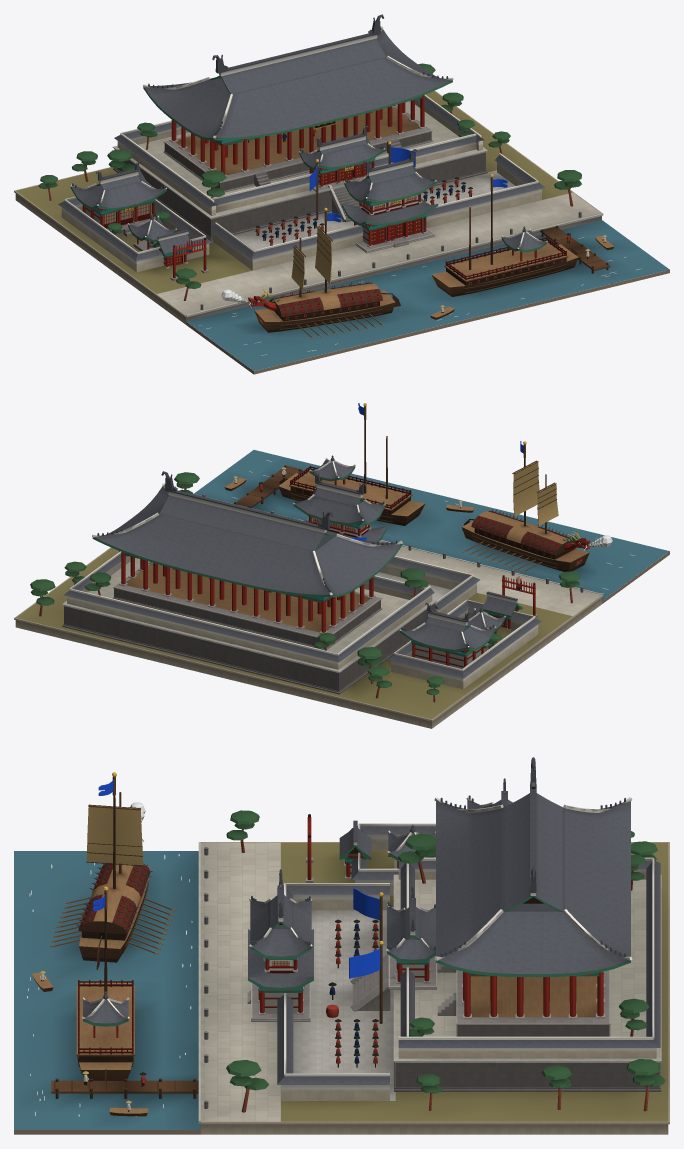
File: lm_komutanlik.glb
3 renders of one model, top to bottom at view 1: azimuth 30°, elevation 25°; view 2: azimuth 150°, elevation 25°; view 3: azimuth 270°, elevation 25°, orthographic. The views are drawn at different scales.
Parts seen in each view (by area): view 1: lm_komutanlik; view 2: lm_komutanlik; view 3: lm_komutanlik.
Boxes of the visible parts, x1,y1,x2,y2 form: lm_komutanlik: (14,14,669,374); lm_komutanlik: (14,403,669,728); lm_komutanlik: (14,757,669,1134).
Size of the model in its own units: 2.31 by 0.7672 by 2.29.
1 material, 1 textured.
